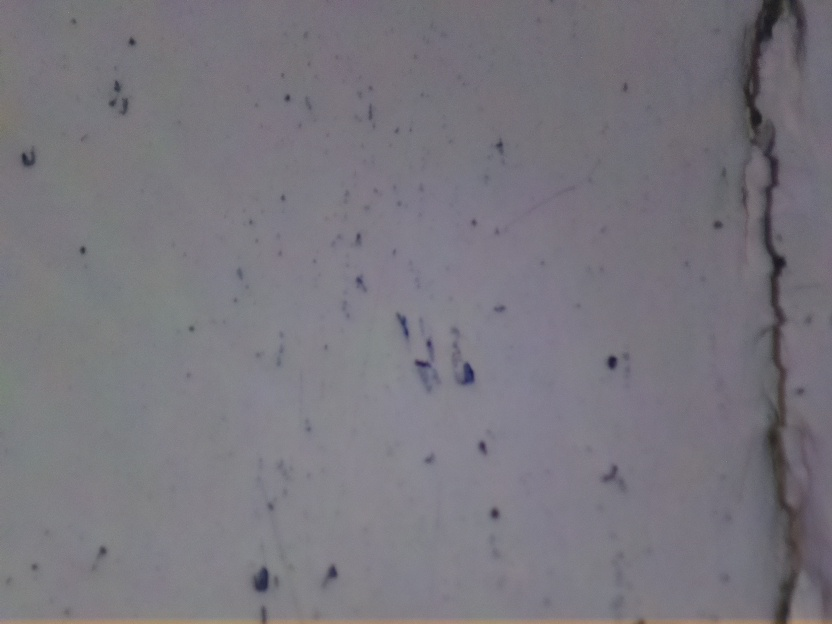crack: (730, 0, 821, 624)
